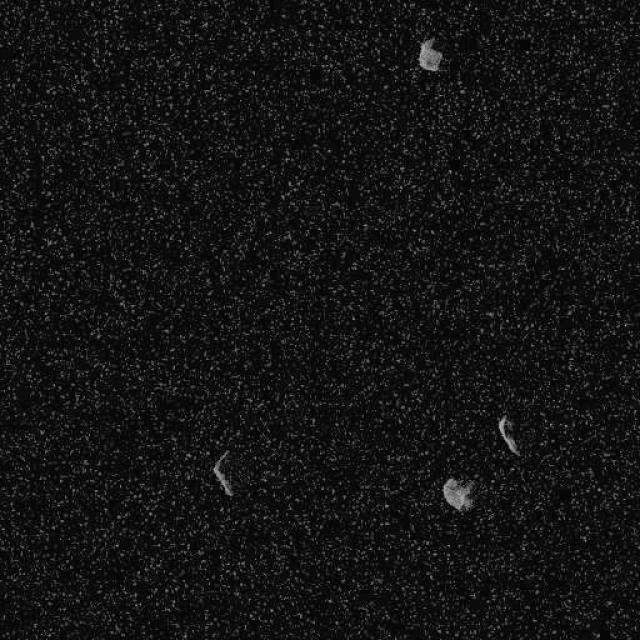D2: (441, 475, 475, 513), (496, 414, 522, 456), (211, 449, 234, 496), (417, 36, 442, 72)
